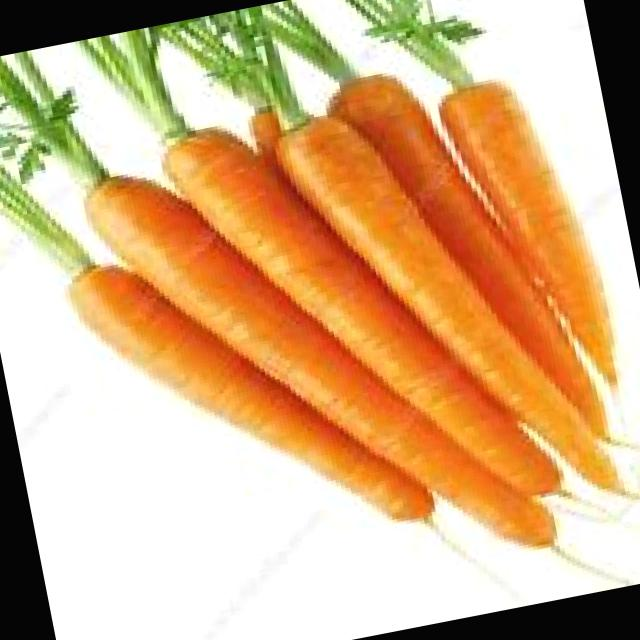carrot: (86, 177, 560, 550), (158, 125, 564, 494), (272, 113, 593, 473), (320, 70, 614, 434), (66, 267, 436, 524), (438, 81, 616, 380)
